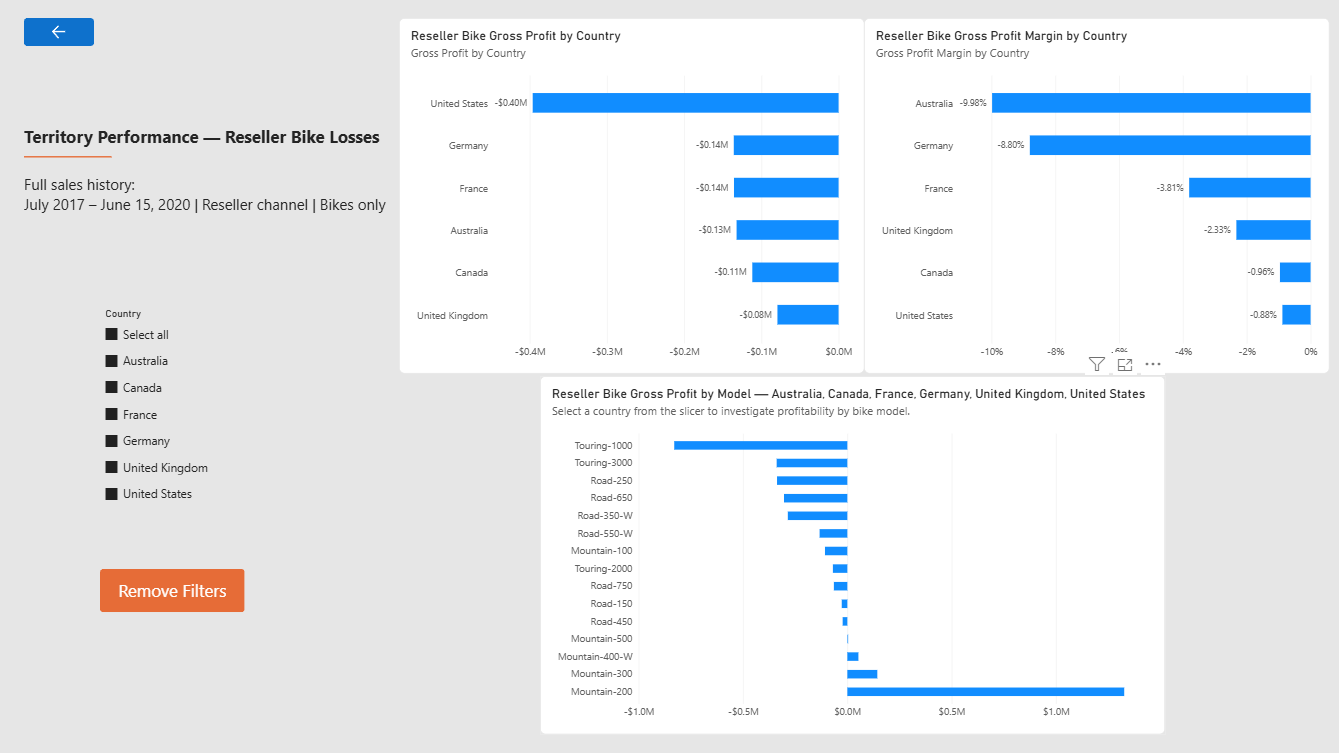

Layout of this report page (visuals, bound fields, positions):
{"tool":"powerbi","page":{"name":"Territory Performance","canvas":[1920,1080],"ordinal":3},"visuals":[{"type":"clusteredBarChart","title":"Reseller Bike Gross Profit by Country","fields":{"Category":["SalesTerritory.Country"],"Y":["Sales.Gross Profit"]},"box":[574.6,28.8,665,508.3],"z":0},{"type":"clusteredBarChart","title":"Reseller Bike Gross Profit Margin by Country","fields":{"Category":["SalesTerritory.Country"],"Y":["Sales.Gross Profit Margin"]},"box":[1239,28.8,665,508.3],"z":1000},{"type":"clusteredBarChart","fields":{"Category":["Product.Model"],"Y":["Sales.Gross Profit"]},"box":[776.3,540.7,893.3,511.7],"z":2000},{"type":"slicer","fields":{"Values":["SalesTerritory.Country"]},"box":[146.7,443.3,240,353.3],"z":3000},{"type":"actionButton","box":[146.7,815,206.7,61.7],"z":4000},{"type":"textbox","box":[38.3,181.7,521.7,181.7],"z":5000},{"type":"shape","box":[39,201.7,125.4,50.8],"z":6000},{"type":"actionButton","box":[39,28.8,100,40],"z":7000}]}

Visuals, with their boxes in screenshot pixels (x1, y1, x2, y2), scaled from the page's 1920x1080 canvas onto the 1339x753 screenshot:
"Reseller Bike Gross Profit by Country" clusteredBarChart: {"left": 401, "top": 20, "right": 864, "bottom": 374}
"Reseller Bike Gross Profit Margin by Country" clusteredBarChart: {"left": 864, "top": 20, "right": 1328, "bottom": 374}
clusteredBarChart - Product.Model x Sales.Gross Profit: {"left": 541, "top": 377, "right": 1164, "bottom": 734}
slicer - SalesTerritory.Country: {"left": 102, "top": 309, "right": 270, "bottom": 555}
actionButton: {"left": 102, "top": 568, "right": 246, "bottom": 611}
textbox: {"left": 27, "top": 127, "right": 391, "bottom": 253}
shape: {"left": 27, "top": 141, "right": 115, "bottom": 176}
actionButton: {"left": 27, "top": 20, "right": 97, "bottom": 48}
